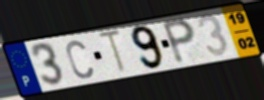3: (197, 12, 232, 59), (32, 41, 65, 89)
9: (128, 24, 168, 71)
C: (65, 38, 96, 81)
P: (160, 17, 198, 67)
T: (96, 28, 129, 76)
